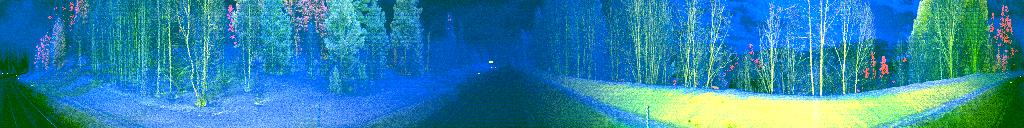pole: (313, 99, 324, 128), (643, 102, 652, 128)
